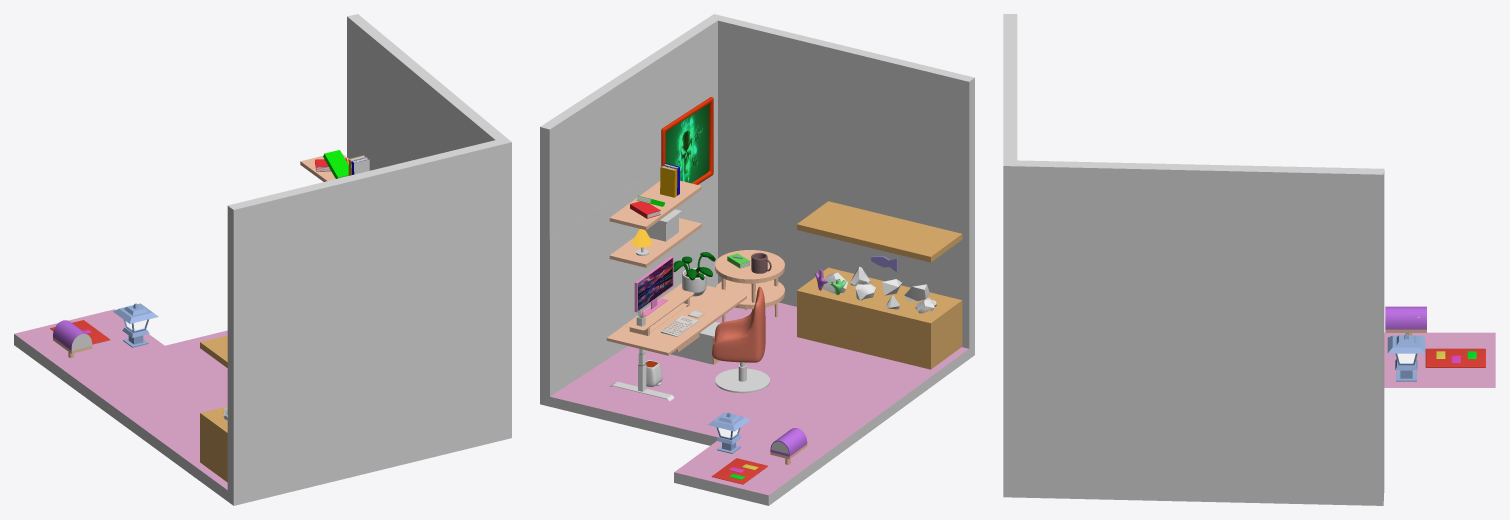
Rendered from Final Room.glb.
3 views of the same model, side by side, from view 1: azimuth 30°, elevation 25°; view 2: azimuth 150°, elevation 25°; view 3: azimuth 270°, elevation 25° (orthographic). The views are drawn at different scales.
Parts seen in each view (by area): view 1: Cube.052, Cube.062, Cube.054, Plane.003, Cylinder.007; view 2: Cube.052, Cube.054, Cube.062, Table Top, Plane.007, Cube.053, Plane.001, Plane, Cylinder.004, Cylinder.002, Table Top.002, Cylinder.003 (+9 smaller); view 3: Cube.052, Cube.062, Plane.003, Cylinder.007, Plane.005.
Part boxes in pixels (left/top/right/bottom): Cube.052: left=64, top=14, right=511, bottom=505; Cube.062: left=14, top=309, right=165, bottom=381; Cube.054: left=200, top=335, right=227, bottom=482; Plane.003: left=113, top=303, right=158, bottom=347; Cylinder.007: left=53, top=320, right=92, bottom=353; Cube.052: left=540, top=14, right=974, bottom=471; Cube.054: left=797, top=201, right=962, bottom=369; Cube.062: left=674, top=441, right=815, bottom=505; Table Top: left=606, top=283, right=746, bottom=355; Plane.007: left=665, top=104, right=708, bottom=183; Cube.053: left=712, top=286, right=765, bottom=362; Plane.001: left=609, top=180, right=701, bottom=229; Plane: left=609, top=218, right=701, bottom=267; Cylinder.004: left=715, top=250, right=784, bottom=283; Cylinder.002: left=715, top=362, right=769, bottom=393; Table Top.002: left=625, top=288, right=694, bottom=335; Cylinder.003: left=716, top=279, right=784, bottom=308; Cube.052: left=1003, top=14, right=1384, bottom=505; Cube.062: left=1384, top=332, right=1495, bottom=387; Plane.003: left=1387, top=333, right=1425, bottom=381; Cylinder.007: left=1385, top=306, right=1426, bottom=332; Plane.005: left=1425, top=348, right=1485, bottom=367.
Bounding box in the file's own units: 10.11 × 9.72 × 13.08.
45 materials, 2 textured.
